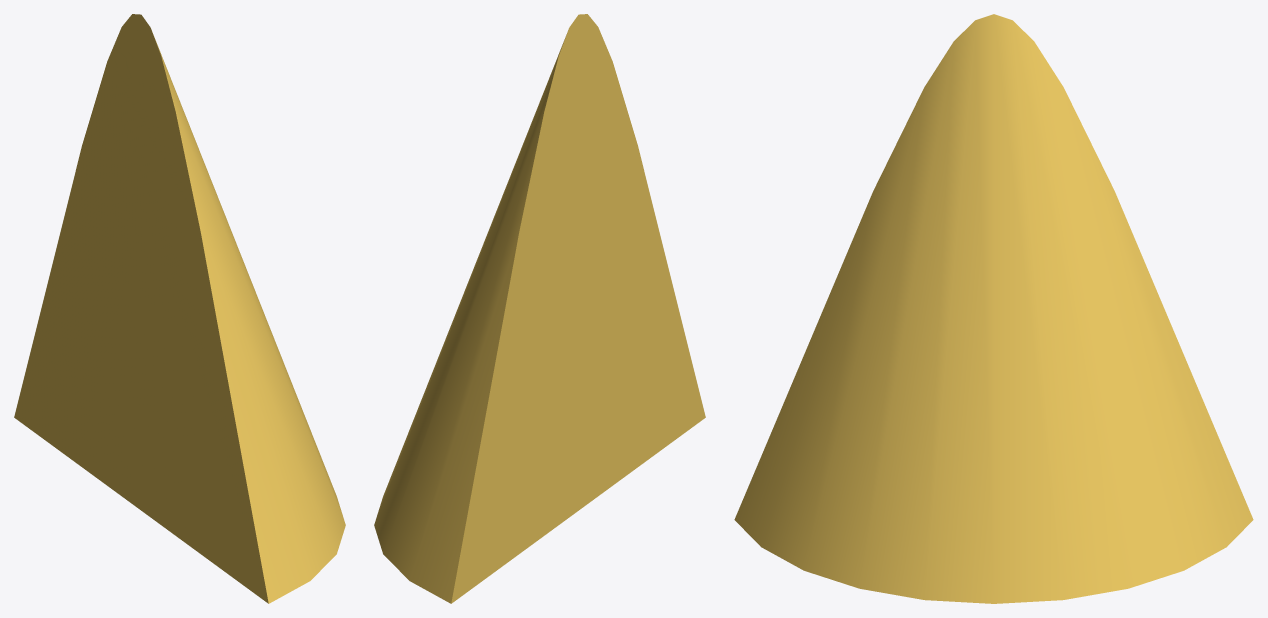
The model's file is Cono_Perpendicular_BaseB.fbx.
3 views of the same model, side by side, from view 1: azimuth 30°, elevation 25°; view 2: azimuth 150°, elevation 25°; view 3: azimuth 270°, elevation 25° (orthographic).
Visible parts, largest first — view 1: Difference2; view 2: Difference2; view 3: Difference2.
Part boxes in pixels (x1=…): Difference2: x1=14, y1=14, x2=345, y2=603; Difference2: x1=374, y1=14, x2=705, y2=603; Difference2: x1=734, y1=14, x2=1253, y2=603.
Size of the model in its own units: 37.02 by 104 by 96.56.
